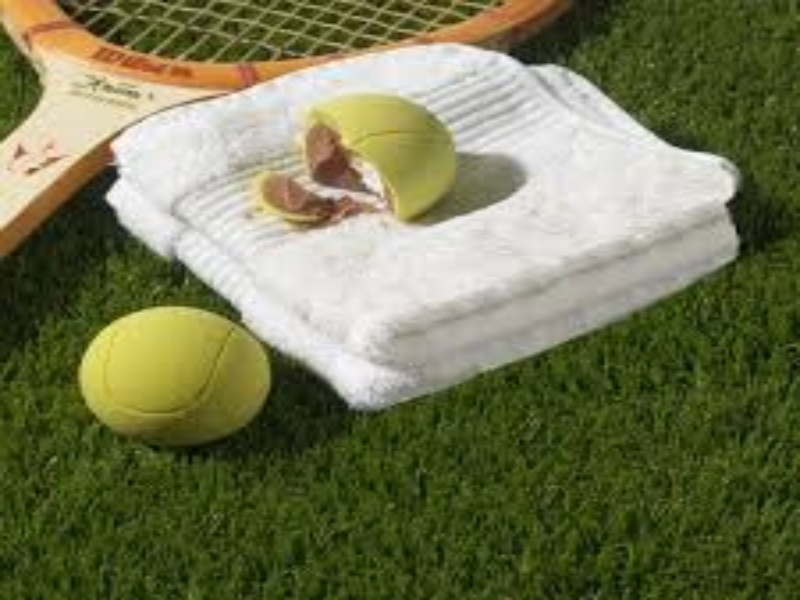tennis ball: (74, 297, 280, 447), (293, 87, 473, 227)
